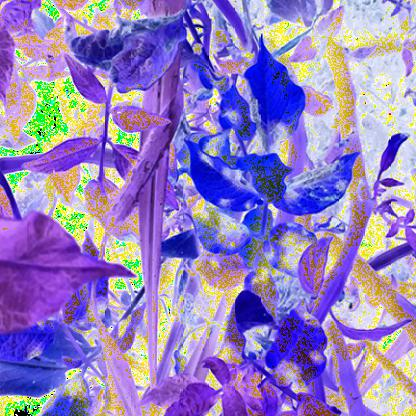potato leaf late blight: (184, 143, 359, 216), (69, 7, 190, 97), (241, 28, 305, 159), (262, 306, 332, 391), (262, 220, 327, 283), (189, 204, 252, 255), (213, 86, 258, 153)
